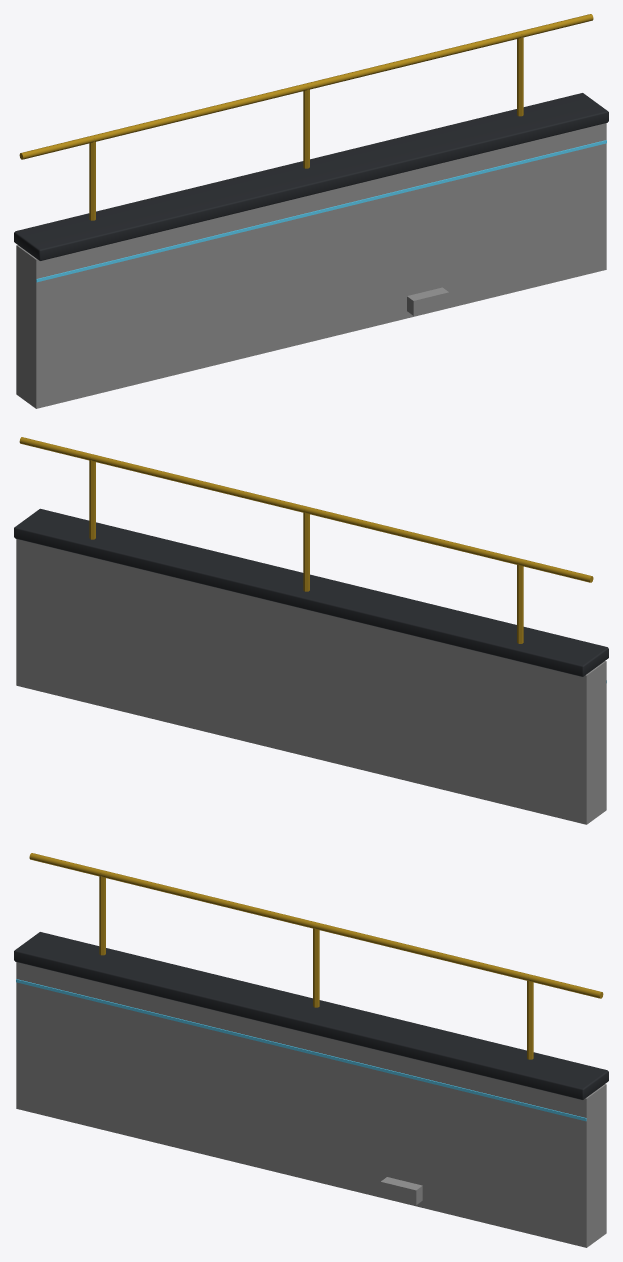
The model's file is Building_Parapet_Panel_4m.fbx.
3 renders of one model, top to bottom at view 1: azimuth 30°, elevation 25°; view 2: azimuth 150°, elevation 25°; view 3: azimuth 330°, elevation 25°, orthographic.
Visible parts, largest first — view 1: Building_Parapet_Panel_4m_LOD0; view 2: Building_Parapet_Panel_4m_LOD0; view 3: Building_Parapet_Panel_4m_LOD0.
Boxes of the visible parts, x1=… form: Building_Parapet_Panel_4m_LOD0: x1=14, y1=14, x2=608, y2=408; Building_Parapet_Panel_4m_LOD0: x1=14, y1=437, x2=608, y2=824; Building_Parapet_Panel_4m_LOD0: x1=14, y1=853, x2=608, y2=1247.
Size of what is drawn, in the model's own units: 4 by 1.64 by 0.36.
